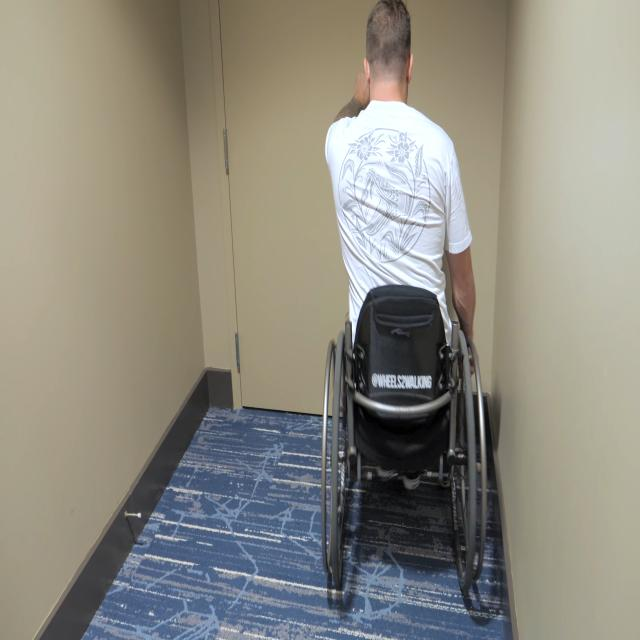wheelchairs: (320, 274, 489, 598)
